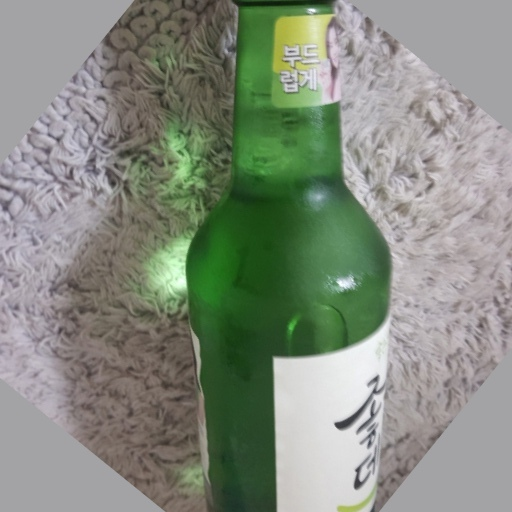Glass_0: (184, 1, 396, 512)
